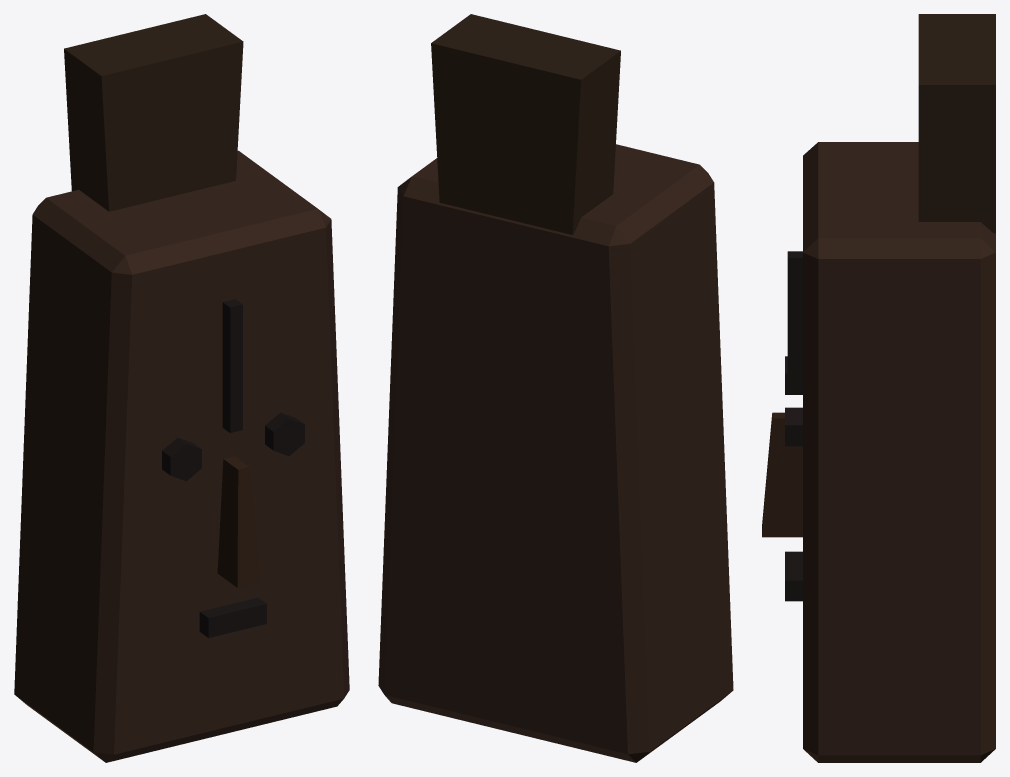
File: wall-mask-22.glb
3 views of the same model, side by side, from view 1: azimuth 30°, elevation 25°; view 2: azimuth 150°, elevation 25°; view 3: azimuth 270°, elevation 25° (orthographic). The views are drawn at different scales.
Parts seen in each view (by area): view 1: wall_mask_22; view 2: wall_mask_22; view 3: wall_mask_22.
Part boxes in pixels (left/top/right/bottom): wall_mask_22: left=14, top=14, right=349, bottom=762; wall_mask_22: left=378, top=14, right=733, bottom=762; wall_mask_22: left=762, top=14, right=995, bottom=762.
Size of the model in its own units: 0.2374 by 0.5667 by 0.1833.
